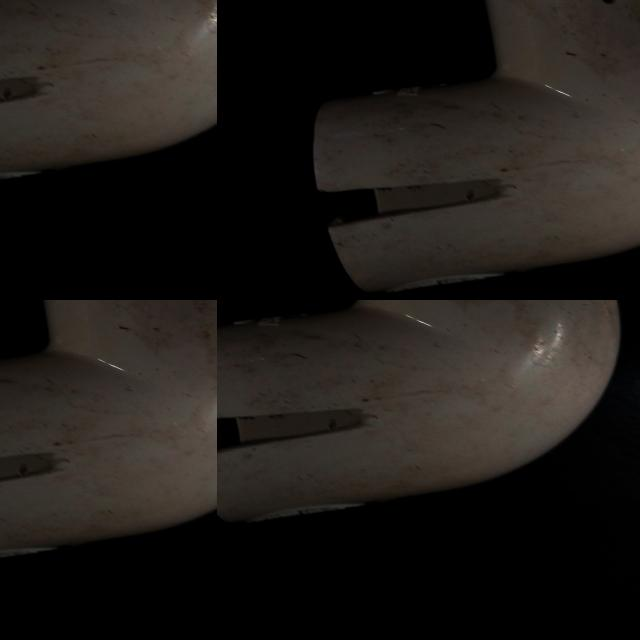Defective: (217, 399, 409, 475), (217, 407, 380, 447), (217, 411, 369, 450)
L Joint: (217, 300, 624, 526)
